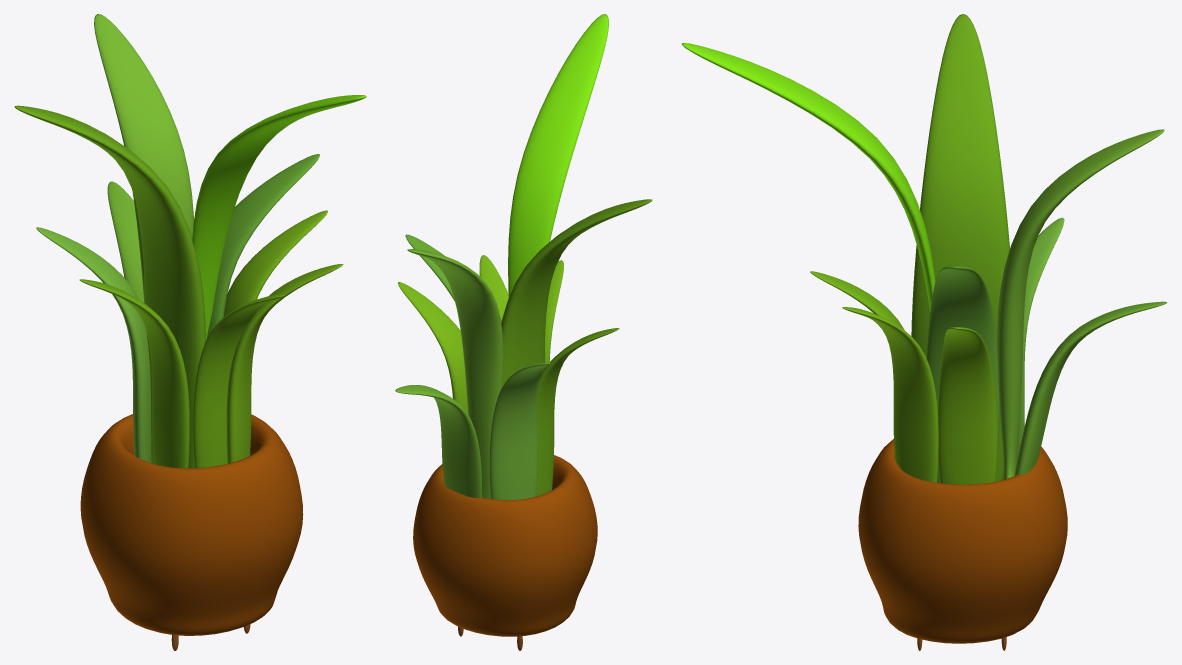
Rendered from vazo de plantas FBX.fbx.
3 renders of one model, left to right at view 1: azimuth 30°, elevation 25°; view 2: azimuth 150°, elevation 25°; view 3: azimuth 270°, elevation 25°, orthographic. The views are drawn at different scales.
Parts seen in each view (by area): view 1: Cube.002; view 2: Cube.002; view 3: Cube.002.
Boxes of the visible parts, x1=… form: Cube.002: x1=14, y1=14, x2=366, y2=650; Cube.002: x1=395, y1=14, x2=652, y2=650; Cube.002: x1=682, y1=14, x2=1167, y2=650.
Bounding box in the file's own units: 346 × 672 × 490.
